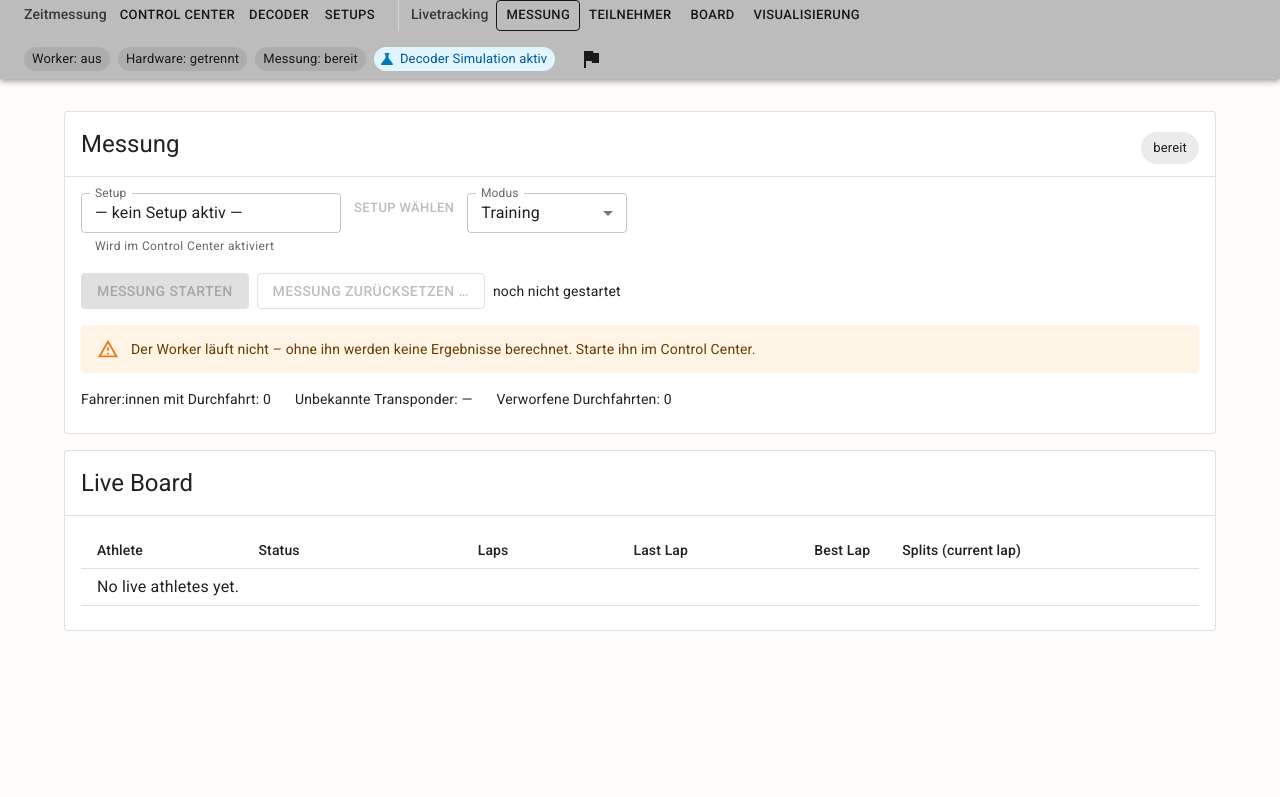
Test case: simulator label in the app bar › shows while the simulator runs and leads to the simulation tab
Click the link "Decoder Simulation aktiv". click: (465, 59)
box: [374, 47, 555, 71]
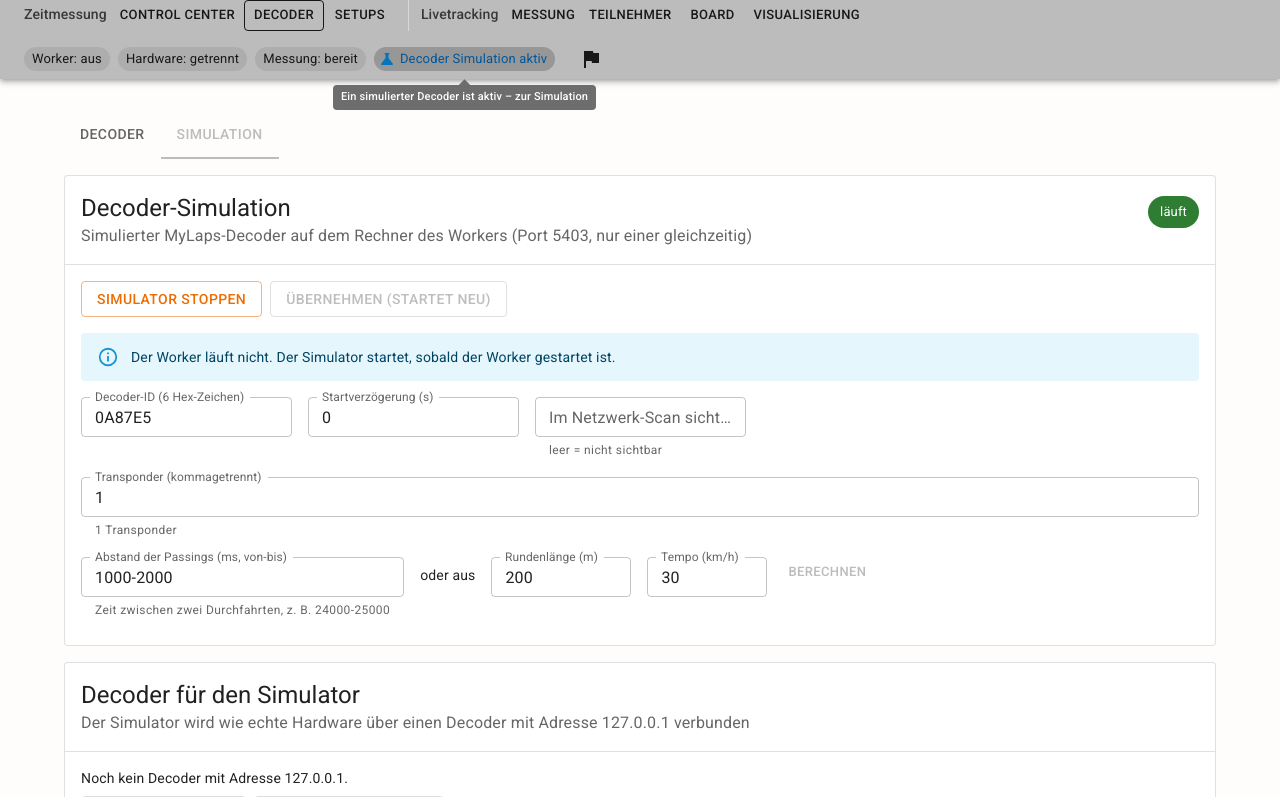
Expected: the tab "Simulation" is shown, [160, 111, 278, 159]
Expected: the text "Decoder-Simulation" is shown, [81, 194, 291, 222]
